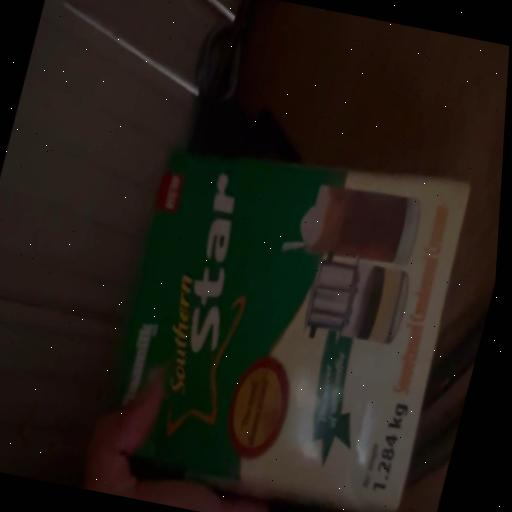ly_giay: (118, 153, 469, 510)
